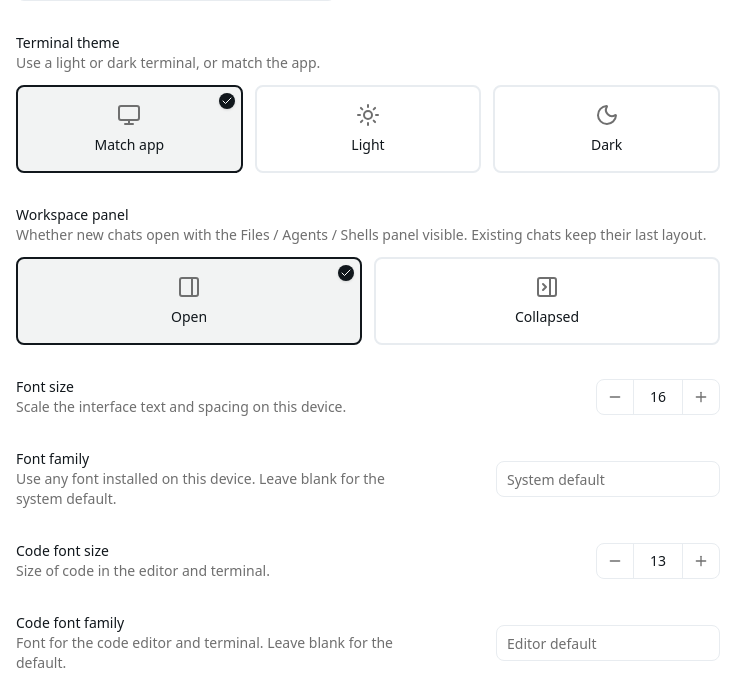
Test case: SettingsPage › shows the empty font family default and applies + persists a typed name
(page scrolled)
Type "Inter" into the field with test id "ui-font-family-input" at (608,479), box [496,461,720,497]
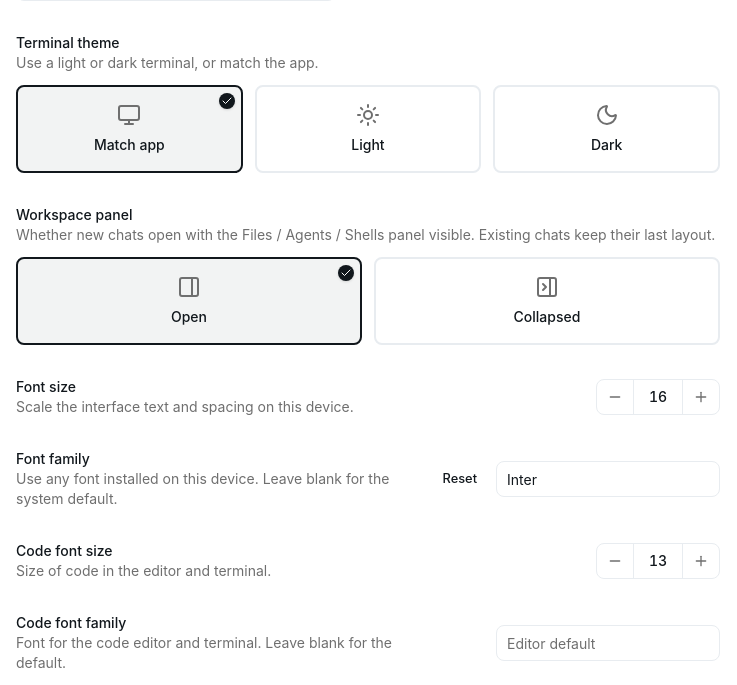
Now the button with test id "ui-font-family-reset" is enabled, box [432,461,488,497]
